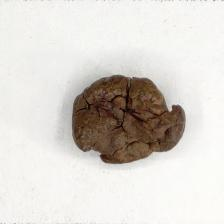NG: (75, 76, 185, 164)
